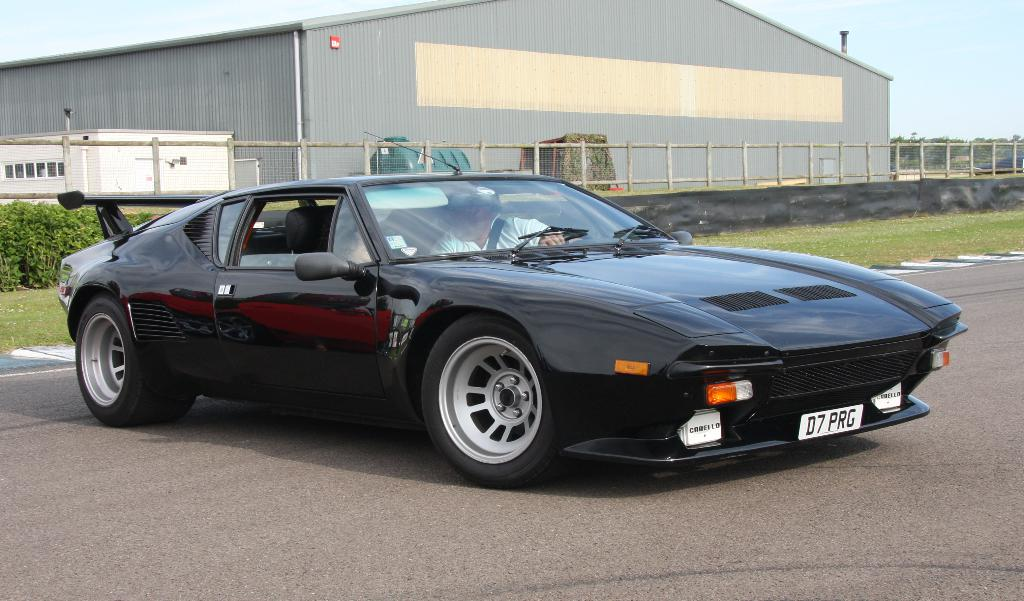Car: (57, 128, 970, 494)
